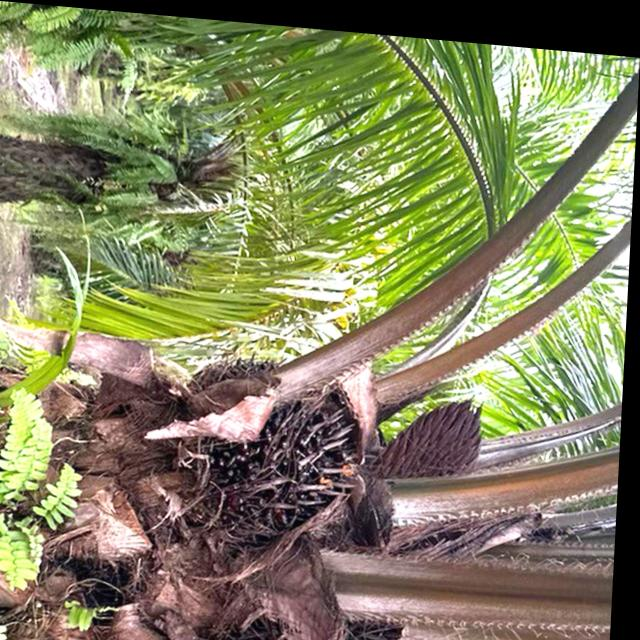ripe: (206, 371, 379, 539)
